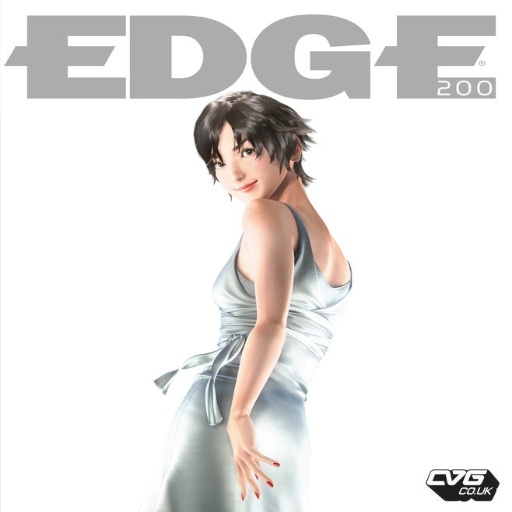hand: (222, 412, 281, 492)
